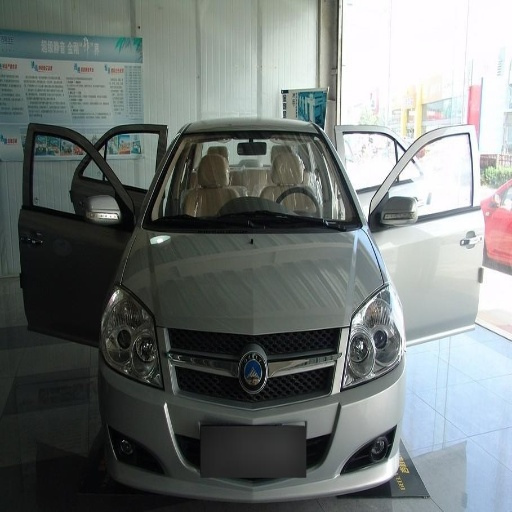front_bumper: (100, 326, 403, 502)
front_left_light: (344, 287, 405, 388)
front_right_door: (31, 132, 123, 247)
front_right_light: (101, 287, 161, 387)
hood: (127, 228, 385, 335)
left_mirror: (369, 193, 414, 228)
